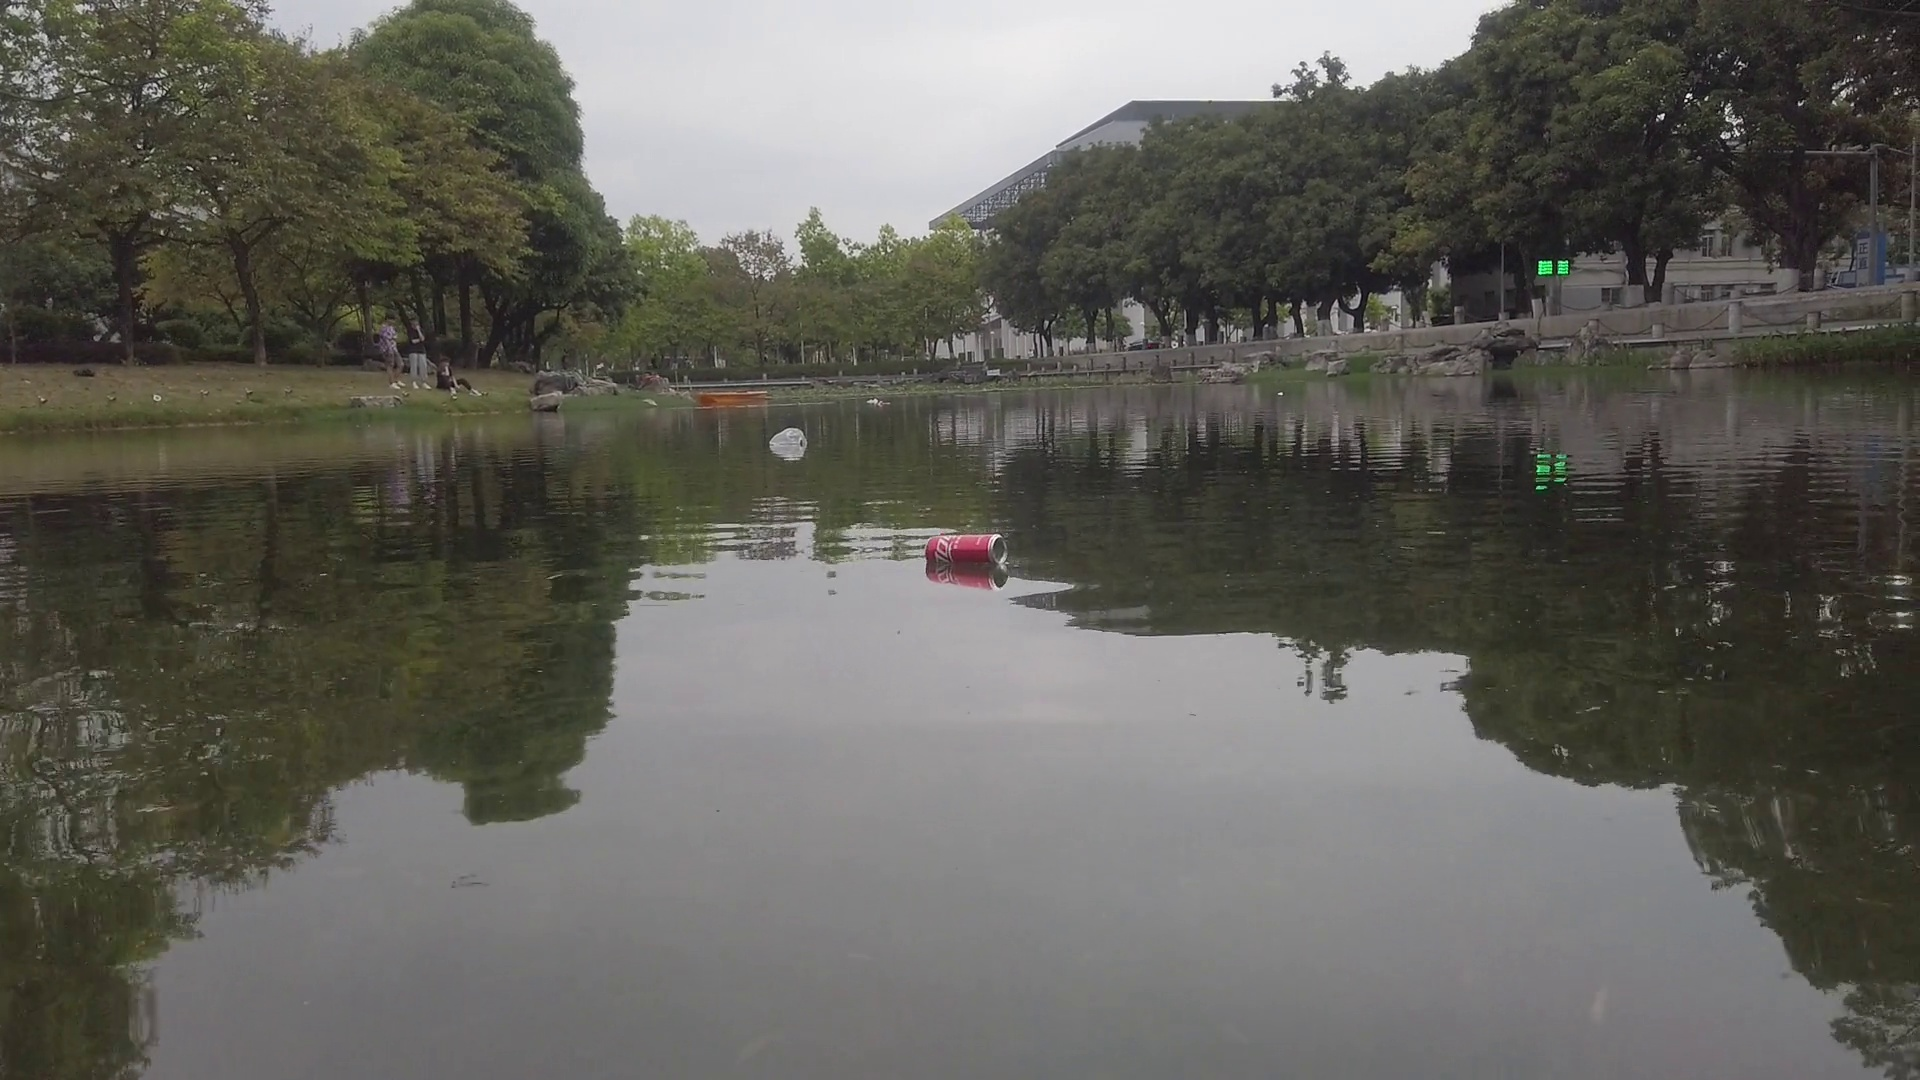bottle: (924, 531, 1007, 564)
paper: (1274, 386, 1286, 400)
plastic: (771, 426, 806, 448), (864, 400, 878, 407)
